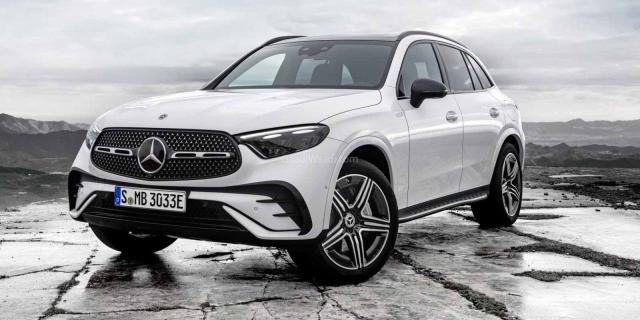benz: (68, 29, 526, 284)
